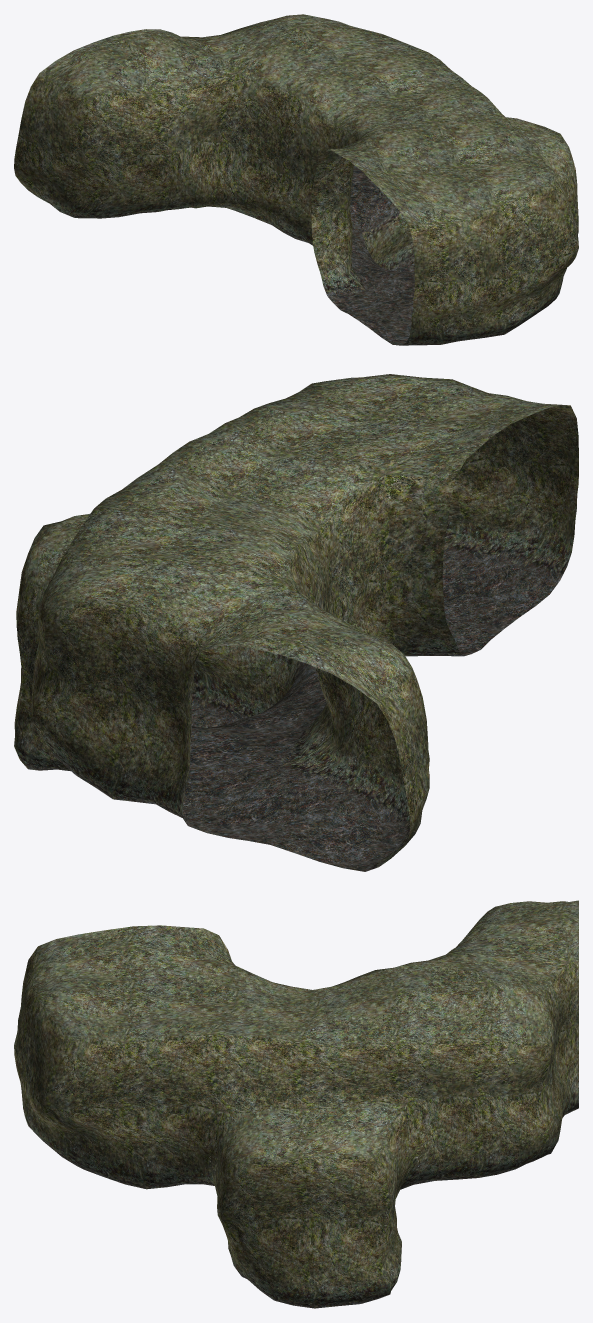
File: thm_all_cave_flatland_s01_damprock_r4_mesh_r4.fbx
3 renders of one model, top to bottom at view 1: azimuth 30°, elevation 25°; view 2: azimuth 150°, elevation 25°; view 3: azimuth 270°, elevation 25°, orthographic. The views are drawn at different scales.
Visible parts, largest first — view 1: mesh_node; view 2: mesh_node; view 3: mesh_node.
Part boxes in pixels (box(x1,y1,x2,y2)): mesh_node: box(14, 14, 578, 345); mesh_node: box(14, 374, 578, 871); mesh_node: box(14, 900, 578, 1308).
Size of the model in its own units: 59.37 by 33.41 by 66.82.
